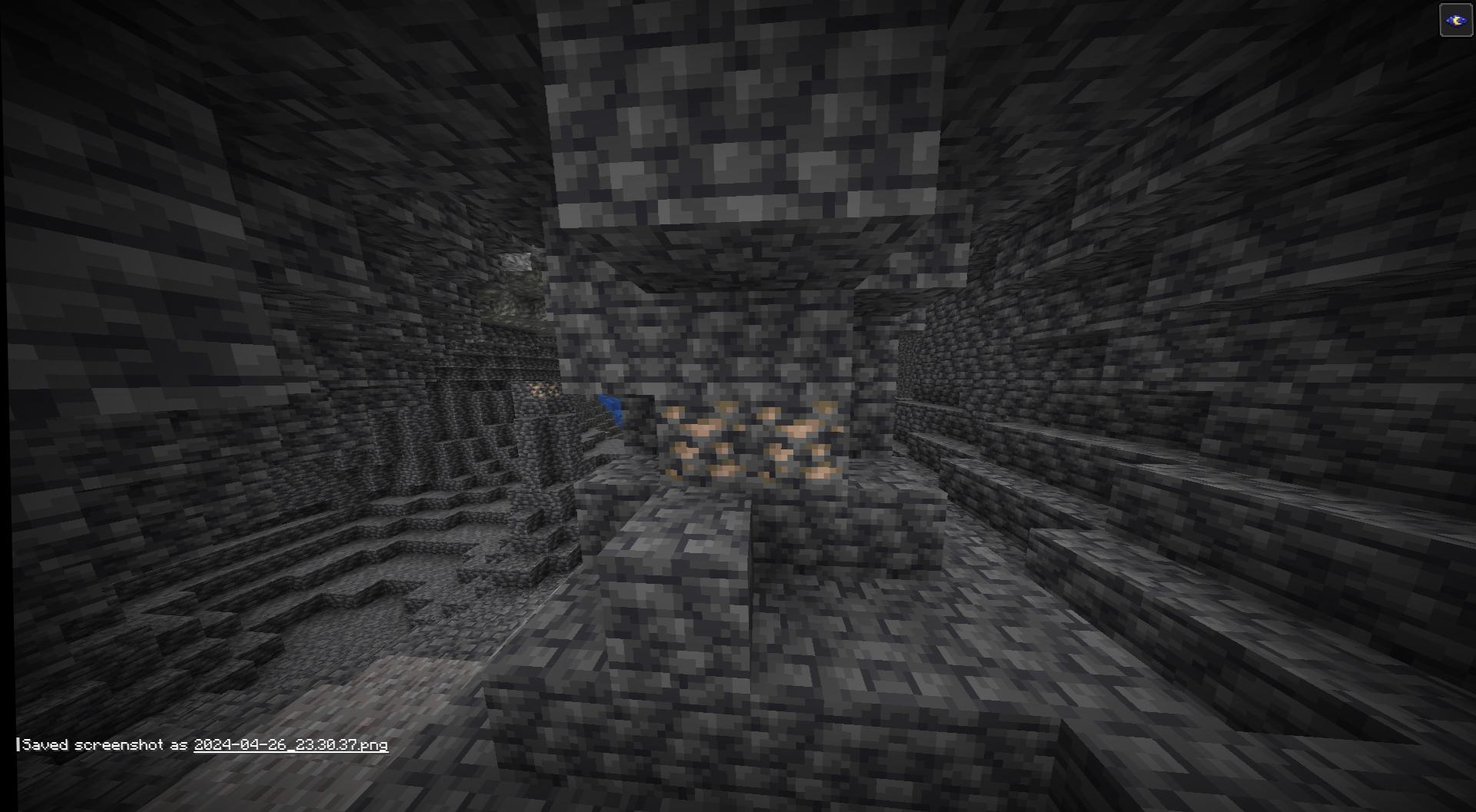iron ore: (752, 396, 845, 487), (658, 399, 744, 484), (521, 378, 561, 403)
